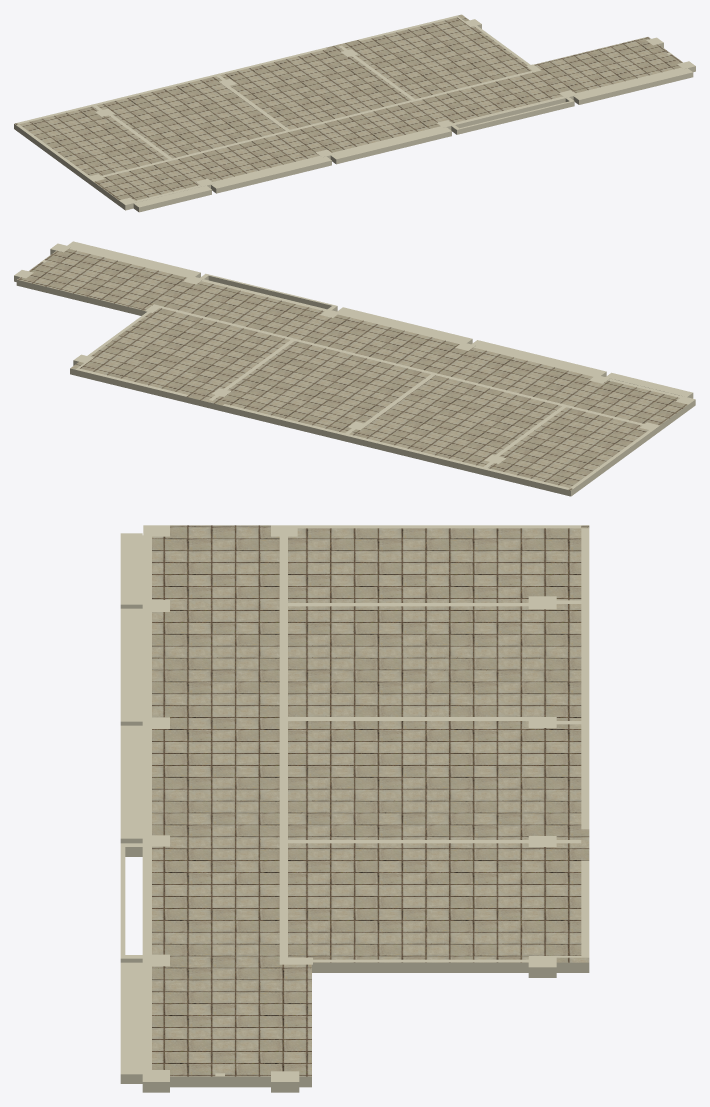
Rendered from 4th_Floor.fbx.
3 renders of one model, top to bottom at view 1: azimuth 30°, elevation 25°; view 2: azimuth 150°, elevation 25°; view 3: azimuth 270°, elevation 25°, orthographic. The views are drawn at different scales.
Parts seen in each view (by area): view 1: 4th_Floor; view 2: 4th_Floor; view 3: 4th_Floor.
Part boxes in pixels (left/top/right/bottom): 4th_Floor: left=14, top=14, right=695, bottom=212; 4th_Floor: left=14, top=241, right=695, bottom=496; 4th_Floor: left=120, top=525, right=589, bottom=1092.
Bounding box in the file's own units: 4518 × 40.78 × 1607.
Materials: 2 (2 with a texture image).
